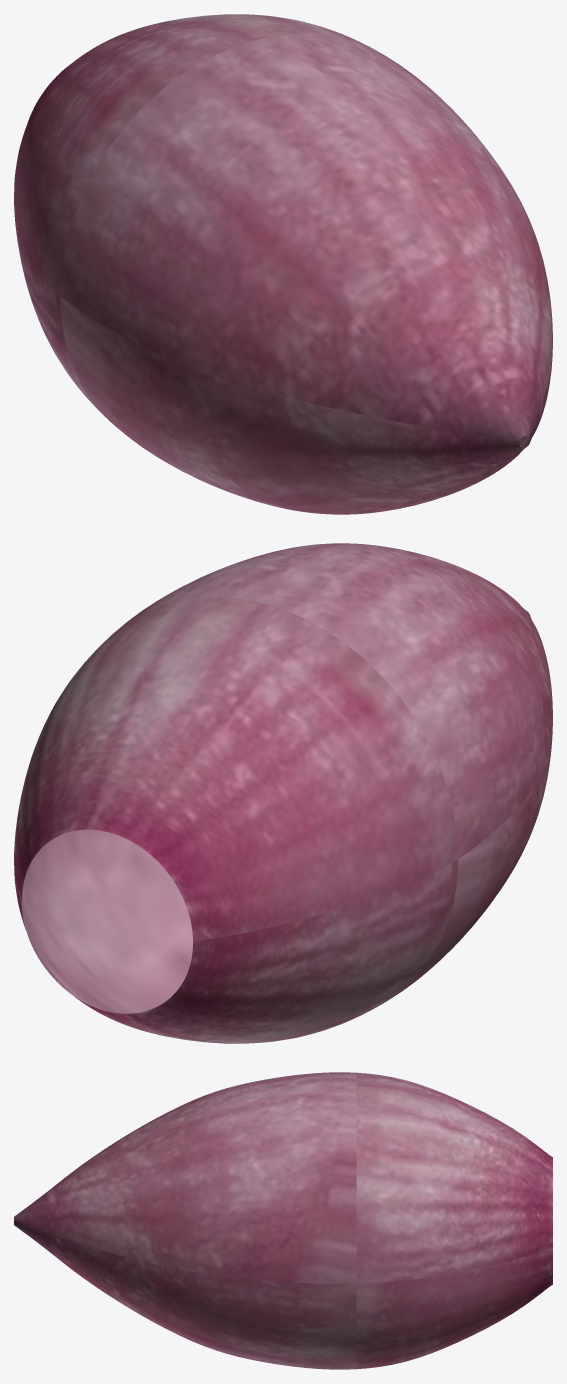
Rendered from RoundRedOnionPeel005.obj.
The picture shows the model from 3 angles, top to bottom: view 1: azimuth 30°, elevation 25°; view 2: azimuth 150°, elevation 25°; view 3: azimuth 270°, elevation 25°; orthographic projection. The views are drawn at different scales.
Parts seen in each view (by area): view 1: RoundRedOnionPeel005; view 2: RoundRedOnionPeel005; view 3: RoundRedOnionPeel005.
Boxes of the visible parts, <box> form: RoundRedOnionPeel005: <box>14,14,552,514</box>; RoundRedOnionPeel005: <box>14,543,552,1043</box>; RoundRedOnionPeel005: <box>14,1072,552,1369</box>.
Size of the model in its own units: 0.0509 by 0.0509 by 0.0922.
1 material, 1 textured.
